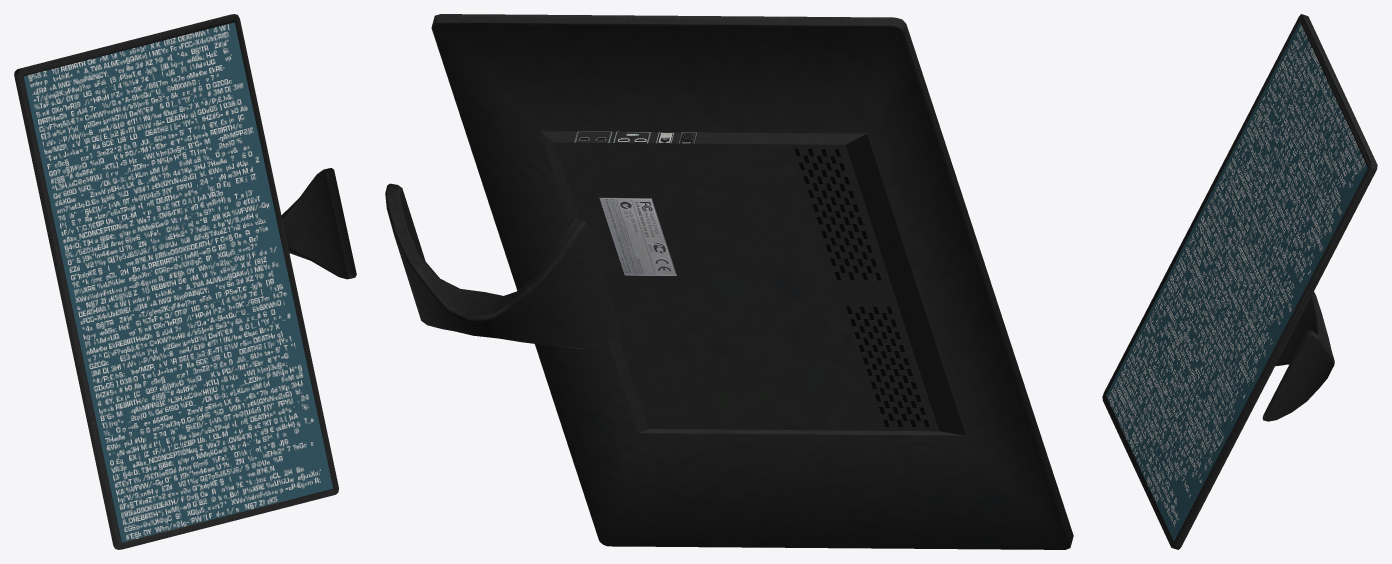
The model's file is monitor_large_left_gibberish.dae.
3 renders of one model, left to right at view 1: azimuth 30°, elevation 25°; view 2: azimuth 150°, elevation 25°; view 3: azimuth 270°, elevation 25°, orthographic. The views are drawn at different scales.
Parts seen in each view (by area): view 1: screen3, monL; view 2: monL; view 3: screen3, monL.
Part boxes in pixels (x1,y1,x2,y2): screen3: [23, 22, 333, 542]; monL: [14, 14, 356, 549]; monL: [385, 14, 1073, 549]; screen3: [1106, 22, 1367, 541]; monL: [1102, 14, 1377, 549].
Bounding box in the file's own units: 0.4549 × 0.5873 × 0.3484.
